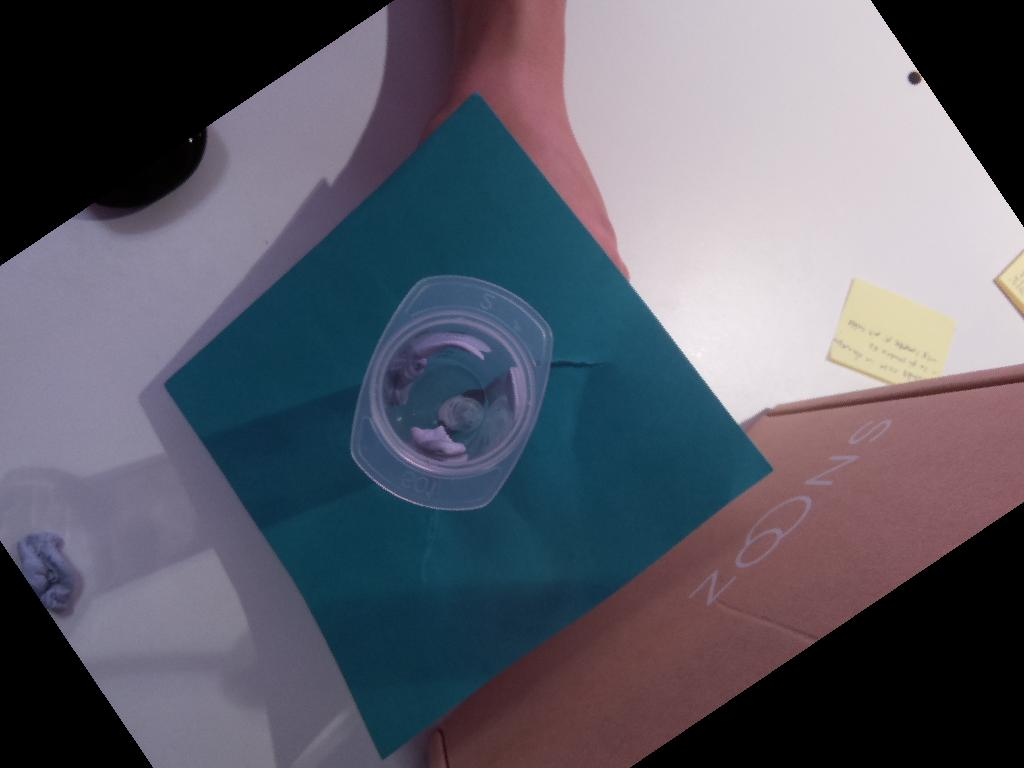dirty: (349, 274, 553, 514)
